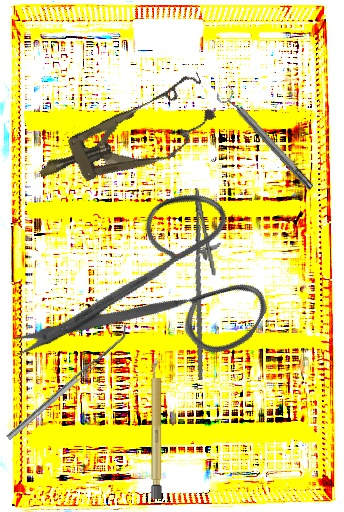Fixation Ring: (213, 82, 319, 196)
Iris Scissors: (5, 147, 302, 456)
Needle Holder: (171, 185, 240, 381)
Scalpel Handle: (151, 358, 162, 499)
Spatula Surgical: (2, 323, 134, 441)
Speculum: (26, 68, 224, 208)
